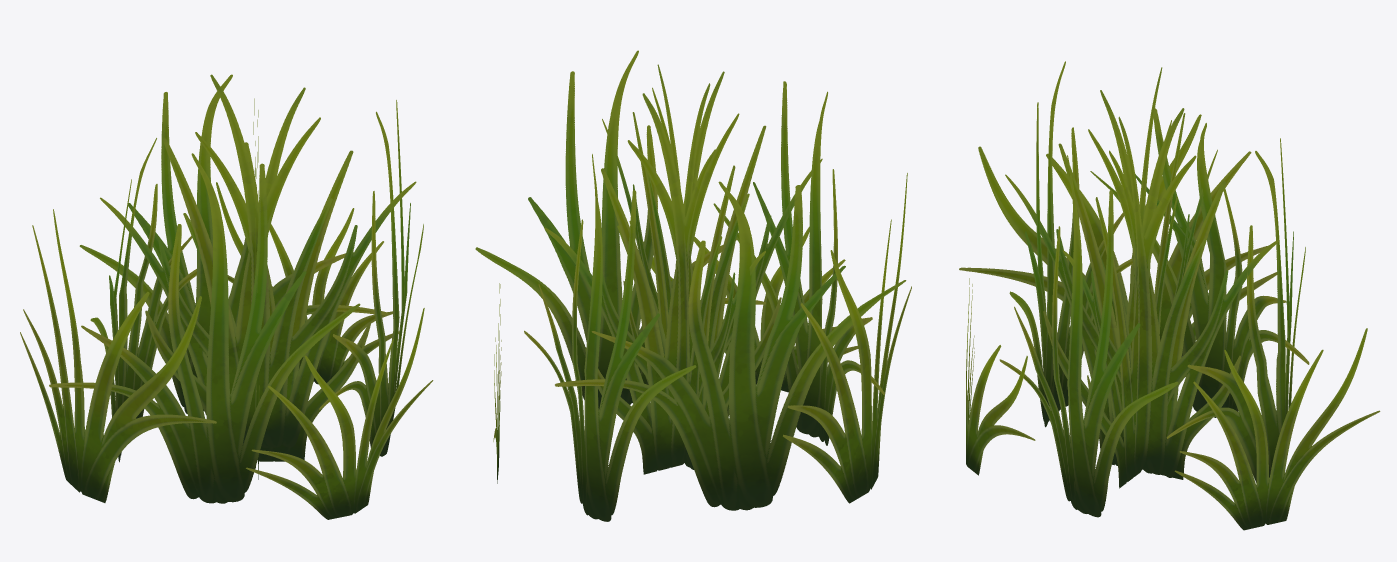
File: SM_Grass_03.fbx
The picture shows the model from 3 angles, left to right: view 1: azimuth 30°, elevation 25°; view 2: azimuth 150°, elevation 25°; view 3: azimuth 270°, elevation 25°; orthographic projection. The views are drawn at different scales.
Parts seen in each view (by area): view 1: SM_Grass_03; view 2: SM_Grass_03; view 3: SM_Grass_03.
Part boxes in pixels (<box>): SM_Grass_03: <box>20,74,433,519</box>; SM_Grass_03: <box>475,50,911,521</box>; SM_Grass_03: <box>959,61,1380,530</box>.
Bounding box in the file's own units: 0.2963 × 0.293 × 0.2734.
